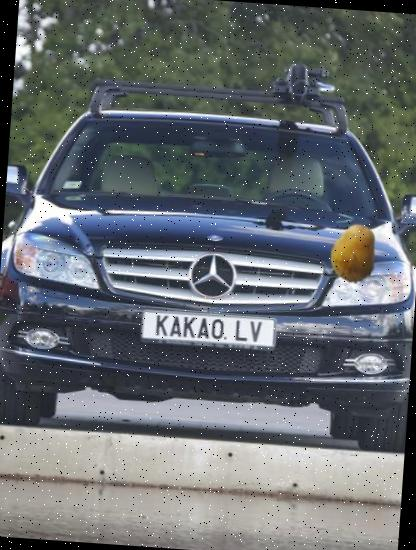Potato: (321, 221, 388, 288)
